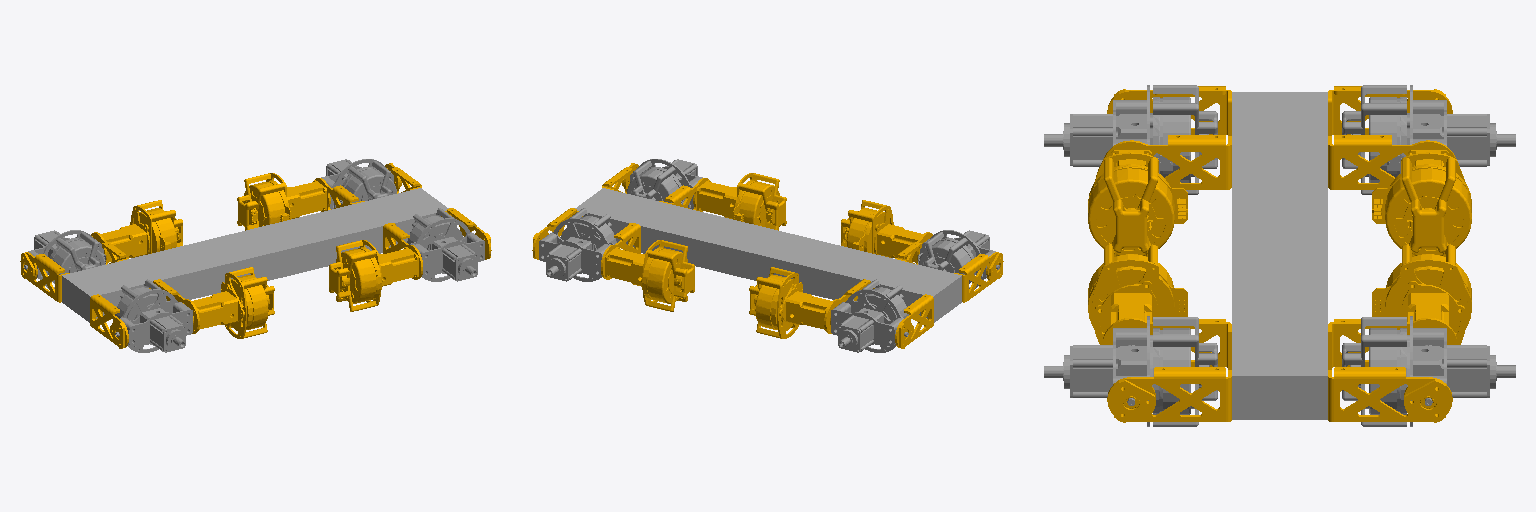
robot.urdf — quadrupedV2:
<?xml version="1.0" ?>
<!-- Generated using onshape-to-robot -->
<!-- Onshape https://cad.onshape.com/documents/c56c7b024fe67f247621574e/w/b966d90009c5abd226fc14d9/e/0b34578ce851a253c0b5c7fa -->
<robot name="quadrupedV2">
  <!-- Link body -->
  <link name="body">
    <inertial>
      <origin xyz="0 0 0.025" rpy="0 0 0"/>
      <mass value="9.41625"/>
      <inertia ixx="0.00981209" ixy="9.43591e-13" ixz="0" iyy="0.383734" iyz="0" izz="0.389621"/>
    </inertial>
    <!-- Part pelvisa -->
    <visual>
      <origin xyz="-0.28375 0.154 0.025" rpy="1.5708 -1.11022e-15 -1.5708"/>
      <geometry>
        <mesh filename="../meshes/pelvisa.obj"/>
      </geometry>
      <material name="pelvisa_material">
        <color rgba="0.980392 0.713725 0.00392157 1.0"/>
      </material>
    </visual>
    <collision>
      <origin xyz="-0.28375 0.154 0.025" rpy="1.5708 -1.11022e-15 -1.5708"/>
      <geometry>
        <mesh filename="../meshes/pelvisa.obj"/>
      </geometry>
    </collision>
    <!-- Part pelvisa_2 -->
    <visual>
      <origin xyz="0.28375 -0.154 0.025" rpy="1.5708 -1.11022e-15 1.5708"/>
      <geometry>
        <mesh filename="../meshes/pelvisa.obj"/>
      </geometry>
      <material name="pelvisa_2_material">
        <color rgba="0.980392 0.713725 0.00392157 1.0"/>
      </material>
    </visual>
    <collision>
      <origin xyz="0.28375 -0.154 0.025" rpy="1.5708 -1.11022e-15 1.5708"/>
      <geometry>
        <mesh filename="../meshes/pelvisa.obj"/>
      </geometry>
    </collision>
    <!-- Part pelvisb -->
    <visual>
      <origin xyz="0.28375 0.154 0.025" rpy="1.5708 1.11022e-15 1.5708"/>
      <geometry>
        <mesh filename="../meshes/pelvisb.obj"/>
      </geometry>
      <material name="pelvisb_material">
        <color rgba="0.980392 0.713725 0.00392157 1.0"/>
      </material>
    </visual>
    <collision>
      <origin xyz="0.28375 0.154 0.025" rpy="1.5708 1.11022e-15 1.5708"/>
      <geometry>
        <mesh filename="../meshes/pelvisb.obj"/>
      </geometry>
    </collision>
    <!-- Part body -->
    <visual>
      <origin xyz="-0.34875 0 0.025" rpy="0 -0 1.5708"/>
      <geometry>
        <mesh filename="../meshes/body.obj"/>
      </geometry>
      <material name="body_material">
        <color rgba="0.701961 0.701961 0.701961 1.0"/>
      </material>
    </visual>
    <collision>
      <origin xyz="-0.34875 0 0.025" rpy="0 -0 1.5708"/>
      <geometry>
        <mesh filename="../meshes/body.obj"/>
      </geometry>
    </collision>
    <!-- Part pelvisb_2 -->
    <visual>
      <origin xyz="-0.28375 -0.154 0.025" rpy="1.5708 1.11022e-15 -1.5708"/>
      <geometry>
        <mesh filename="../meshes/pelvisb.obj"/>
      </geometry>
      <material name="pelvisb_2_material">
        <color rgba="0.980392 0.713725 0.00392157 1.0"/>
      </material>
    </visual>
    <collision>
      <origin xyz="-0.28375 -0.154 0.025" rpy="1.5708 1.11022e-15 -1.5708"/>
      <geometry>
        <mesh filename="../meshes/pelvisb.obj"/>
      </geometry>
    </collision>
  </link>
  <!-- Link coxab -->
  <link name="coxab">
    <inertial>
      <origin xyz="0 0 0" rpy="0 0 0"/>
      <mass value="1e-09"/>
      <inertia ixx="1.18779e-06" ixy="6.96469e-11" ixz="-8.87738e-11" iyy="5.6673e-07" iyz="7.27282e-08" izz="1.04473e-06"/>
    </inertial>
    <!-- Part coxab -->
    <visual>
      <origin xyz="3.22659e-16 0 0.062" rpy="-3.72756e-26 -2.55506e-26 -4.90454e-45"/>
      <geometry>
        <mesh filename="../meshes/coxab.obj"/>
      </geometry>
      <material name="coxab_material">
        <color rgba="0.647059 0.647059 0.647059 1.0"/>
      </material>
    </visual>
    <collision>
      <origin xyz="3.22659e-16 0 0.062" rpy="-3.72756e-26 -2.55506e-26 -4.90454e-45"/>
      <geometry>
        <mesh filename="../meshes/coxab.obj"/>
      </geometry>
    </collision>
  </link>
  <!-- Link femurl -->
  <link name="femurl">
    <inertial>
      <origin xyz="0 0 0" rpy="0 0 0"/>
      <mass value="1e-09"/>
      <inertia ixx="4.41608e-07" ixy="-4.73405e-07" ixz="2.74431e-07" iyy="1.47972e-05" iyz="-1.23653e-08" izz="1.46821e-05"/>
    </inertial>
    <!-- Part femurl -->
    <visual>
      <origin xyz="-7.77156e-16 -6.38378e-16 0.064" rpy="1.97215e-31 9.61424e-31 -6.81643e-41"/>
      <geometry>
        <mesh filename="../meshes/femurl.obj"/>
      </geometry>
      <material name="femurl_material">
        <color rgba="0.647059 0.647059 0.647059 1.0"/>
      </material>
    </visual>
    <collision>
      <origin xyz="-7.77156e-16 -6.38378e-16 0.064" rpy="1.97215e-31 9.61424e-31 -6.81643e-41"/>
      <geometry>
        <mesh filename="../meshes/femurl.obj"/>
      </geometry>
    </collision>
  </link>
  <!-- Link tibia -->
  <link name="tibia">
    <inertial>
      <origin xyz="0 0 0" rpy="0 0 0"/>
      <mass value="1e-09"/>
      <inertia ixx="4.16674e-06" ixy="-6.57069e-08" ixz="-3.45203e-13" iyy="4.08032e-08" iyz="-3.30086e-12" izz="4.17202e-06"/>
    </inertial>
    <!-- Part tibia -->
    <visual>
      <origin xyz="0 0 5.55112e-17" rpy="-1.22081e-31 1.44143e-30 -7.39557e-31"/>
      <geometry>
        <mesh filename="../meshes/tibia.obj"/>
      </geometry>
      <material name="tibia_material">
        <color rgba="0.768627 0.886275 0.952941 1.0"/>
      </material>
    </visual>
    <!-- <collision>
      <origin xyz="0 0 5.55112e-17" rpy="-1.22081e-31 1.44143e-30 -7.39557e-31"/>
      <geometry>
        <mesh filename="../meshes/tibia.obj"/>
      </geometry>
    </collision> -->
    <collision>
      <origin xyz="0.0 -0.36328592 0.0 " rpy="0.0 0.0 0.0" />
      <geometry>
        <sphere radius="0.025" />
      </geometry>
    </collision>
    <collision>
      <origin xyz="-0.007 -0.14 0.0" rpy="1.5708 0.0 -0.0483309246" />
      <geometry>
        <cylinder radius="0.02" length="0.41" />
      </geometry>
    </collision>
  </link>
  <!-- Joint from femurl to tibia -->
  <joint name="Knee1" type="revolute">
    <origin xyz="0.370345 -1.04083e-17 0.064" rpy="2.9923e-15 -1.6844e-14 1.09912e-14"/>
    <parent link="femurl"/>
    <child link="tibia"/>
    <axis xyz="0 0 1"/>
    <limit effort="10" velocity="10" lower="-3.141592653589793" upper="3.141592653589793"/>
  </joint>
  <!-- Joint from coxab to femurl -->
  <joint name="HipFE1" type="revolute">
    <origin xyz="3.08781e-16 -0.0705 0.062" rpy="1.5708 1.5708 0"/>
    <parent link="coxab"/>
    <child link="femurl"/>
    <axis xyz="0 0 1"/>
    <limit effort="10" velocity="10" lower="-3.141592653589793" upper="3.141592653589793"/>
  </joint>
  <!-- Joint from body to coxab -->
  <joint name="HipAA1" type="revolute">
    <origin xyz="0.22175 0.154 0.025" rpy="-3.14159 -1.5708 0"/>
    <parent link="body"/>
    <child link="coxab"/>
    <axis xyz="0 0 1"/>
    <limit effort="10" velocity="10" lower="-3.141592653589793" upper="3.141592653589793"/>
  </joint>
  <!-- Link coxaa -->
  <link name="coxaa">
    <inertial>
      <origin xyz="0 0 0" rpy="0 0 0"/>
      <mass value="1e-09"/>
      <inertia ixx="5.66729e-07" ixy="-6.96403e-11" ixz="-7.27282e-08" iyy="1.18779e-06" iyz="-8.87881e-11" izz="1.04473e-06"/>
    </inertial>
    <!-- Part coxaa -->
    <visual>
      <origin xyz="0 -3.26128e-16 -0.062" rpy="3.14159 -1.11022e-16 -1.5708"/>
      <geometry>
        <mesh filename="../meshes/coxaa.obj"/>
      </geometry>
      <material name="coxaa_material">
        <color rgba="0.647059 0.647059 0.647059 1.0"/>
      </material>
    </visual>
    <collision>
      <origin xyz="0 -3.26128e-16 -0.062" rpy="3.14159 -1.11022e-16 -1.5708"/>
      <geometry>
        <mesh filename="../meshes/coxaa.obj"/>
      </geometry>
    </collision>
  </link>
  <!-- Link femurl_2 -->
  <link name="femurl_2">
    <inertial>
      <origin xyz="0 0 0" rpy="0 0 0"/>
      <mass value="1e-09"/>
      <inertia ixx="4.41608e-07" ixy="-4.73405e-07" ixz="2.74431e-07" iyy="1.47972e-05" iyz="-1.23653e-08" izz="1.46821e-05"/>
    </inertial>
    <!-- Part femurl_2 -->
    <visual>
      <origin xyz="-6.66134e-16 -6.34909e-16 0.064" rpy="0 9.45302e-31 0"/>
      <geometry>
        <mesh filename="../meshes/femurl.obj"/>
      </geometry>
      <material name="femurl_2_material">
        <color rgba="0.647059 0.647059 0.647059 1.0"/>
      </material>
    </visual>
    <collision>
      <origin xyz="-6.66134e-16 -6.34909e-16 0.064" rpy="0 9.45302e-31 0"/>
      <geometry>
        <mesh filename="../meshes/femurl.obj"/>
      </geometry>
    </collision>
  </link>
  <!-- Link tibia_2 -->
  <link name="tibia_2">
    <inertial>
      <origin xyz="0 0 0" rpy="0 0 0"/>
      <mass value="1e-09"/>
      <inertia ixx="4.08032e-08" ixy="6.57069e-08" ixz="-3.30086e-12" iyy="4.16674e-06" iyz="3.45203e-13" izz="4.17202e-06"/>
    </inertial>
    <!-- Part tibia_2 -->
    <visual>
      <origin xyz="0 0 -5.55112e-17" rpy="4.30412e-15 -1.83187e-15 -1.5708"/>
      <geometry>
        <mesh filename="../meshes/tibia.obj"/>
      </geometry>
      <material name="tibia_2_material">
        <color rgba="0.768627 0.886275 0.952941 1.0"/>
      </material>
    </visual>
    <!-- <collision>
      <origin xyz="0 0 -5.55112e-17" rpy="4.30412e-15 -1.83187e-15 -1.5708"/>
      <geometry>
        <mesh filename="../meshes/tibia.obj"/>
      </geometry>
    </collision> -->
    <collision>
      <origin xyz="0.0 -0.36328592 0.0 " rpy="0.0 0.0 0.0" />
      <geometry>
        <sphere radius="0.025" />
      </geometry>
    </collision>
    <collision>
      <origin xyz="-0.007 -0.14 0.0" rpy="1.5708 0.0 -0.0483309246" />
      <geometry>
        <cylinder radius="0.02" length="0.41" />
      </geometry>
    </collision>
  </link>
  <!-- Joint from femurl_2 to tibia_2 -->
  <joint name="Knee2" type="revolute">
    <origin xyz="0.370345 -6.93889e-18 0.064" rpy="-1.57338e-14 -3.21434e-15 1.5708"/>
    <parent link="femurl_2"/>
    <child link="tibia_2"/>
    <axis xyz="0 0 1"/>
    <limit effort="10" velocity="10" lower="-3.141592653589793" upper="3.141592653589793"/>
  </joint>
  <!-- Joint from coxaa to femurl_2 -->
  <joint name="HipFE2" type="revolute">
    <origin xyz="-0.0705 2.74086e-16 -0.062" rpy="-3.14159 1.5708 0"/>
    <parent link="coxaa"/>
    <child link="femurl_2"/>
    <axis xyz="0 0 1"/>
    <limit effort="10" velocity="10" lower="-3.141592653589793" upper="3.141592653589793"/>
  </joint>
  <!-- Joint from body to coxaa -->
  <joint name="HipAA2" type="revolute">
    <origin xyz="-0.22175 0.154 0.025" rpy="-1.5708 -1.11022e-15 -1.5708"/>
    <parent link="body"/>
    <child link="coxaa"/>
    <axis xyz="0 0 1"/>
    <limit effort="10" velocity="10" lower="-3.141592653589793" upper="3.141592653589793"/>
  </joint>
  <!-- Link coxab_2 -->
  <link name="coxab_2">
    <inertial>
      <origin xyz="0 0 0" rpy="0 0 0"/>
      <mass value="1e-09"/>
      <inertia ixx="1.18779e-06" ixy="-6.96469e-11" ixz="8.87738e-11" iyy="5.6673e-07" iyz="7.27282e-08" izz="1.04473e-06"/>
    </inertial>
    <!-- Part coxab_2 -->
    <visual>
      <origin xyz="3.26128e-16 0 -0.062" rpy="3.14159 2.55506e-26 0"/>
      <geometry>
        <mesh filename="../meshes/coxab.obj"/>
      </geometry>
      <material name="coxab_2_material">
        <color rgba="0.647059 0.647059 0.647059 1.0"/>
      </material>
    </visual>
    <collision>
      <origin xyz="3.26128e-16 0 -0.062" rpy="3.14159 2.55506e-26 0"/>
      <geometry>
        <mesh filename="../meshes/coxab.obj"/>
      </geometry>
    </collision>
  </link>
  <!-- Link femurr -->
  <link name="femurr">
    <inertial>
      <origin xyz="0 0 0" rpy="0 0 0"/>
      <mass value="1e-09"/>
      <inertia ixx="4.41608e-07" ixy="-4.73405e-07" ixz="-2.74431e-07" iyy="1.47972e-05" iyz="1.23653e-08" izz="1.46821e-05"/>
    </inertial>
    <!-- Part femurr -->
    <visual>
      <origin xyz="-7.21645e-16 -6.34909e-16 -0.064" rpy="5.91646e-31 -1.79959e-30 0"/>
      <geometry>
        <mesh filename="../meshes/femurr.obj"/>
      </geometry>
      <material name="femurr_material">
        <color rgba="0.647059 0.647059 0.647059 1.0"/>
      </material>
    </visual>
    <collision>
      <origin xyz="-7.21645e-16 -6.34909e-16 -0.064" rpy="5.91646e-31 -1.79959e-30 0"/>
      <geometry>
        <mesh filename="../meshes/femurr.obj"/>
      </geometry>
    </collision>
  </link>
  <!-- Link tibia_3 -->
  <link name="tibia_3">
    <inertial>
      <origin xyz="0 0 0" rpy="0 0 0"/>
      <mass value="1e-09"/>
      <inertia ixx="4.16674e-06" ixy="-6.57069e-08" ixz="-3.45203e-13" iyy="4.08032e-08" iyz="-3.30086e-12" izz="4.17202e-06"/>
    </inertial>
    <!-- Part tibia_3 -->
    <visual>
      <origin xyz="0 0 0" rpy="0 -1.21852e-30 0"/>
      <geometry>
        <mesh filename="../meshes/tibia.obj"/>
      </geometry>
      <material name="tibia_3_material">
        <color rgba="0.768627 0.886275 0.952941 1.0"/>
      </material>
    </visual>
    <!-- <collision>
      <origin xyz="0 0 0" rpy="0 -1.21852e-30 0"/>
      <geometry>
        <mesh filename="../meshes/tibia.obj"/>
      </geometry>
    </collision> -->
    <collision>
      <origin xyz="0.0 -0.36328592 0.0 " rpy="0.0 0.0 0.0" />
      <geometry>
        <sphere radius="0.025" />
      </geometry>
    </collision>
    <collision>
      <origin xyz="-0.007 -0.14 0.0" rpy="1.5708 0.0 -0.0483309246" />
      <geometry>
        <cylinder radius="0.02" length="0.41" />
      </geometry>
    </collision>
  </link>
  <!-- Joint from femurr to tibia_3 -->
  <joint name="Knee3" type="revolute">
    <origin xyz="0.370345 -2.42861e-17 -0.064" rpy="-3.21434e-15 1.57338e-14 -9.86076e-32"/>
    <parent link="femurr"/>
    <child link="tibia_3"/>
    <axis xyz="0 0 1"/>
    <limit effort="10" velocity="10" lower="-3.141592653589793" upper="3.141592653589793"/>
  </joint>
  <!-- Joint from coxab_2 to femurr -->
  <joint name="HipFE3" type="revolute">
    <origin xyz="3.08781e-16 0.0705 -0.062" rpy="1.5708 1.5708 0"/>
    <parent link="coxab_2"/>
    <child link="femurr"/>
    <axis xyz="0 0 1"/>
    <limit effort="10" velocity="10" lower="-3.141592653589793" upper="3.141592653589793"/>
  </joint>
  <!-- Joint from body to coxab_2 -->
  <joint name="HipAA3" type="revolute">
    <origin xyz="-0.22175 -0.154 0.025" rpy="3.14159 -1.5708 0"/>
    <parent link="body"/>
    <child link="coxab_2"/>
    <axis xyz="0 0 1"/>
    <limit effort="10" velocity="10" lower="-3.141592653589793" upper="3.141592653589793"/>
  </joint>
  <!-- Link coxaa_2 -->
  <link name="coxaa_2">
    <inertial>
      <origin xyz="0 0 0" rpy="0 0 0"/>
      <mass value="1e-09"/>
      <inertia ixx="1.18779e-06" ixy="-6.96403e-11" ixz="-8.87881e-11" iyy="5.66729e-07" iyz="-7.27282e-08" izz="1.04473e-06"/>
    </inertial>
    <!-- Part coxaa_2 -->
    <visual>
      <origin xyz="-3.46945e-18 0 0" rpy="2.09165e-47 -0 0"/>
      <geometry>
        <mesh filename="../meshes/coxaa.obj"/>
      </geometry>
      <material name="coxaa_2_material">
        <color rgba="0.647059 0.647059 0.647059 1.0"/>
      </material>
    </visual>
    <collision>
      <origin xyz="-3.46945e-18 0 0" rpy="2.09165e-47 -0 0"/>
      <geometry>
        <mesh filename="../meshes/coxaa.obj"/>
      </geometry>
    </collision>
  </link>
  <!-- Link femurr_2 -->
  <link name="femurr_2">
    <inertial>
      <origin xyz="0 0 0" rpy="0 0 0"/>
      <mass value="1e-09"/>
      <inertia ixx="4.41608e-07" ixy="-4.73405e-07" ixz="-2.74431e-07" iyy="1.47972e-05" iyz="1.23653e-08" izz="1.46821e-05"/>
    </inertial>
    <!-- Part femurr_2 -->
    <visual>
      <origin xyz="-7.21645e-16 -6.31439e-16 -0.064" rpy="5.22748e-31 -1.69611e-30 -2.906e-32"/>
      <geometry>
        <mesh filename="../meshes/femurr.obj"/>
      </geometry>
      <material name="femurr_2_material">
        <color rgba="0.647059 0.647059 0.647059 1.0"/>
      </material>
    </visual>
    <collision>
      <origin xyz="-7.21645e-16 -6.31439e-16 -0.064" rpy="5.22748e-31 -1.69611e-30 -2.906e-32"/>
      <geometry>
        <mesh filename="../meshes/femurr.obj"/>
      </geometry>
    </collision>
  </link>
  <!-- Link tibia_4 -->
  <link name="tibia_4">
    <inertial>
      <origin xyz="0 0 0" rpy="0 0 0"/>
      <mass value="1e-09"/>
      <inertia ixx="4.16674e-06" ixy="-6.57069e-08" ixz="-3.45203e-13" iyy="4.08032e-08" iyz="-3.30086e-12" izz="4.17202e-06"/>
    </inertial>
    <!-- Part tibia_4 -->
    <visual>
      <origin xyz="0 0 0" rpy="-1.16661e-31 -2.97055e-30 2.85689e-32"/>
      <geometry>
        <mesh filename="../meshes/tibia.obj"/>
      </geometry>
      <material name="tibia_4_material">
        <color rgba="0.768627 0.886275 0.952941 1.0"/>
      </material>
    </visual>
    <!-- <collision>
      <origin xyz="0 0 0" rpy="-1.16661e-31 -2.97055e-30 2.85689e-32"/>
      <geometry>
        <mesh filename="../meshes/tibia.obj"/>
      </geometry>
    </collision> -->
    <collision>
      <origin xyz="0.0 -0.36328592 0.0 " rpy="0.0 0.0 0.0" />
      <geometry>
        <sphere radius="0.025" />
      </geometry>
    </collision>
    <collision>
      <origin xyz="-0.007 -0.14 0.0" rpy="1.5708 0.0 -0.0483309246" />
      <geometry>
        <cylinder radius="0.02" length="0.41" />
      </geometry>
    </collision>
  </link>
  <!-- Joint from femurr_2 to tibia_4 -->
  <joint name="Knee4" type="revolute">
    <origin xyz="0.370345 -2.42861e-17 -0.064" rpy="-2.85867e-15 1.51025e-14 -4.4664e-30"/>
    <parent link="femurr_2"/>
    <child link="tibia_4"/>
    <axis xyz="0 0 1"/>
    <limit effort="10" velocity="10" lower="-3.141592653589793" upper="3.141592653589793"/>
  </joint>
  <!-- Joint from coxaa_2 to femurr_2 -->
  <joint name="HipFE4" type="revolute">
    <origin xyz="-2.08167e-17 0.0705 0" rpy="1.5708 1.5708 0"/>
    <parent link="coxaa_2"/>
    <child link="femurr_2"/>
    <axis xyz="0 0 1"/>
    <limit effort="10" velocity="10" lower="-3.141592653589793" upper="3.141592653589793"/>
  </joint>
  <!-- Joint from body to coxaa_2 -->
  <joint name="HipAA4" type="revolute">
    <origin xyz="0.28375 -0.154 0.025" rpy="3.14159 -1.5708 0"/>
    <parent link="body"/>
    <child link="coxaa_2"/>
    <axis xyz="0 0 1"/>
    <limit effort="10" velocity="10" lower="-3.141592653589793" upper="3.141592653589793"/>
  </joint>
</robot>

--- Facts derived from the render (not from the file) ---
The picture shows the robot from 3 angles, left to right: view 1: azimuth 30°, elevation 25°; view 2: azimuth 150°, elevation 25°; view 3: azimuth 270°, elevation 25°; orthographic projection.
Model quadrupedV2 with 13 links and 12 joints (12 revolute), rooted at body, posed all joints at 0.
Links seen in each view (by area): view 1: body, coxab_2, coxaa_2, coxaa, coxab; view 2: body, coxaa, coxab, coxab_2, coxaa_2; view 3: body, coxab, coxaa_2, coxaa, coxab_2.
Boxes of the visible links, left/top/right/bottom form: body: left=20, top=163, right=491, bottom=348; coxab_2: left=115, top=279, right=192, bottom=352; coxaa_2: left=407, top=208, right=484, bottom=281; coxaa: left=24, top=230, right=105, bottom=288; coxab: left=321, top=159, right=396, bottom=209; body: left=532, top=163, right=1003, bottom=348; coxaa: left=831, top=279, right=908, bottom=352; coxab: left=539, top=208, right=616, bottom=281; coxab_2: left=918, top=230, right=999, bottom=288; coxaa_2: left=627, top=159, right=702, bottom=209; body: left=1088, top=86, right=1471, bottom=422; coxab: left=1342, top=316, right=1515, bottom=426; coxaa_2: left=1044, top=316, right=1217, bottom=426; coxaa: left=1342, top=85, right=1515, bottom=194; coxab_2: left=1044, top=85, right=1217, bottom=194.
Bounding box of the posed robot: 0.7201 × 0.488 × 0.1145 m (x, y, z).
9 mesh visuals loaded from 8 distinct referenced files (5 OBJ); not drawn: 8 (reference not matched to a file when rendering).
